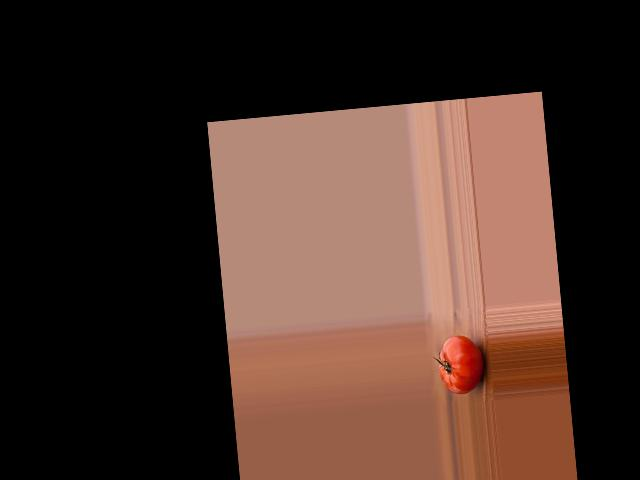tomato: (436, 332, 486, 395)
